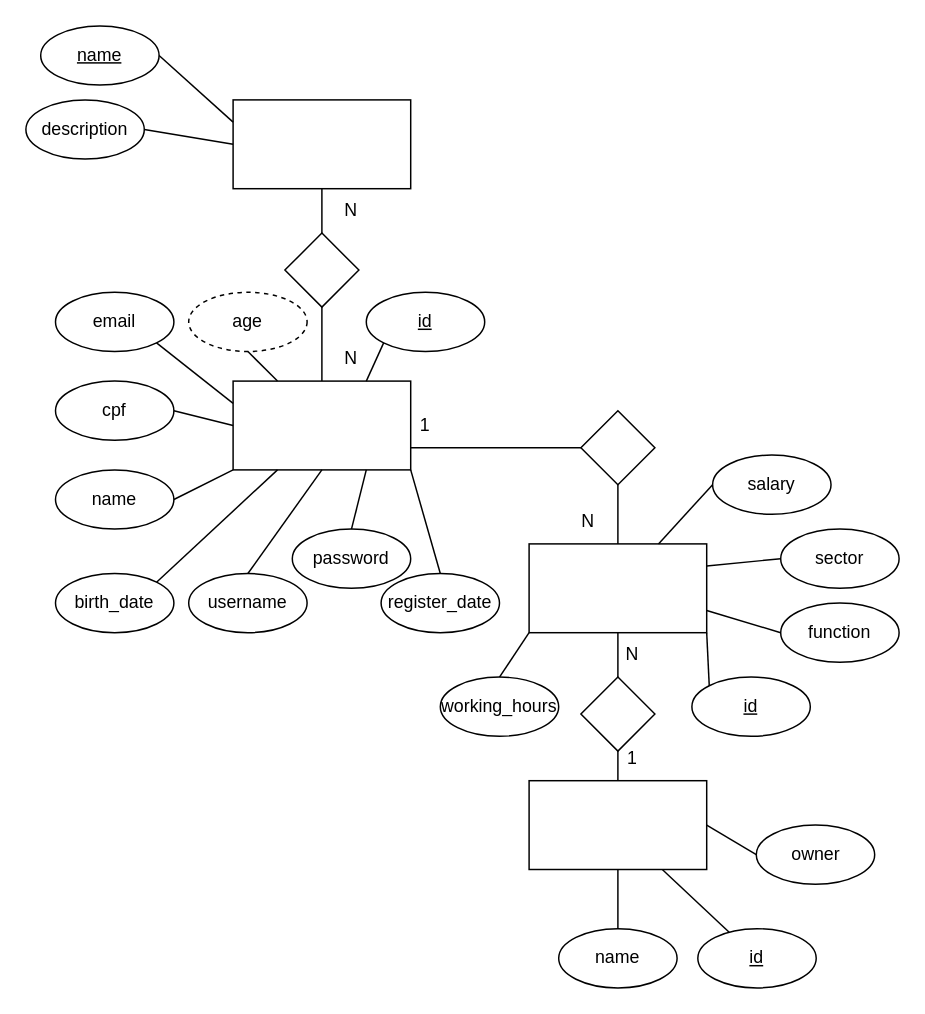
Some shapes in this 925 by 1014 pixel diagram are drawn without their labels. The shapes that lost their labels are listed below. From the top down, each one's centre as x and y in pixels, then its label:
At (x=321, y=143): "Roles".
At (x=321, y=425): "User".
At (x=617, y=587): "Worker".
At (x=617, y=824): "Company".
